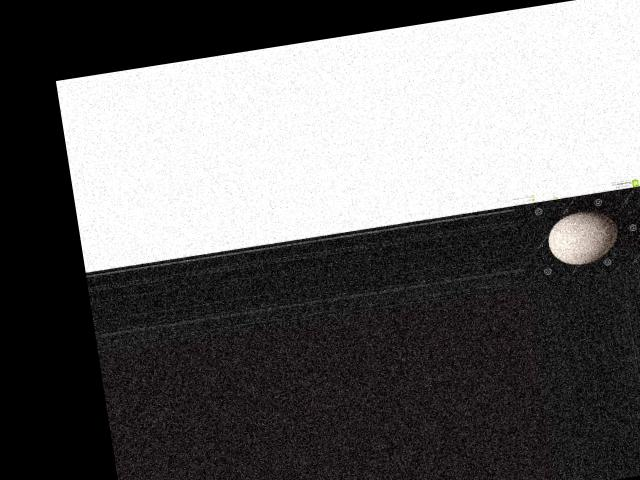egg: (543, 206, 621, 268)
